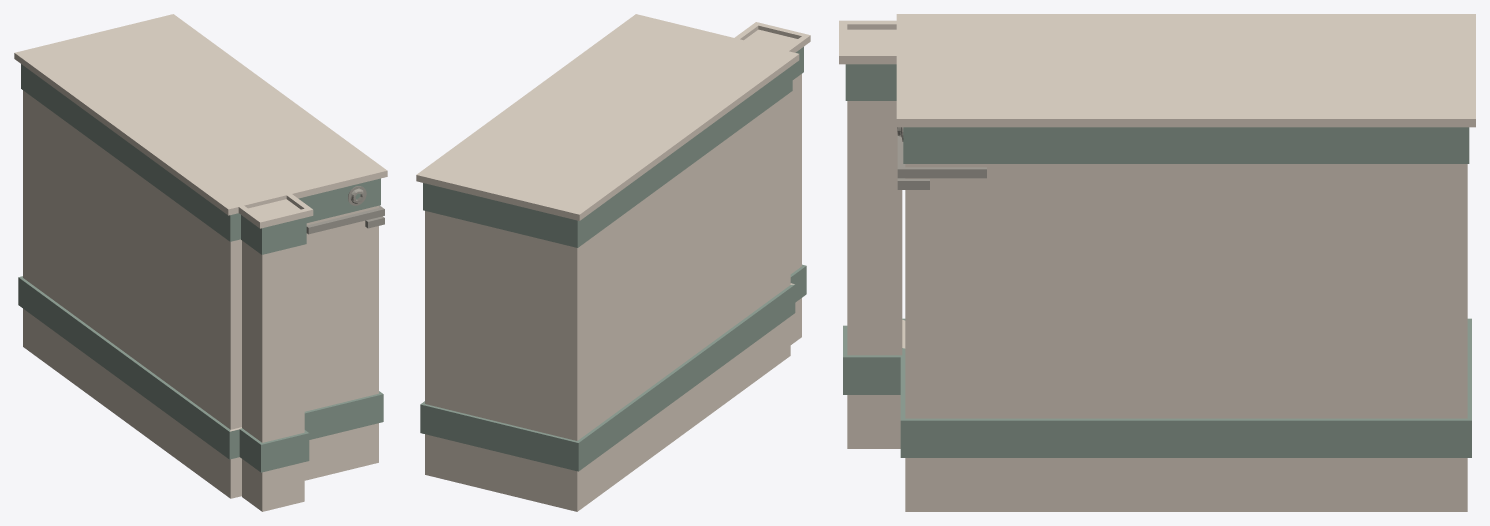
Rendered from bld_block_03.fbx.
3 renders of one model, left to right at view 1: azimuth 30°, elevation 25°; view 2: azimuth 150°, elevation 25°; view 3: azimuth 270°, elevation 25°, orthographic. The views are drawn at different scales.
Visible parts, largest first — view 1: bld_block_03; view 2: bld_block_03; view 3: bld_block_03.
Boxes of the visible parts, x1,y1,x2,y2 form: bld_block_03: (14,14,387,511); bld_block_03: (416,14,810,511); bld_block_03: (839,14,1475,511).
Bounding box in the file's own units: 484 × 852 × 1241.
